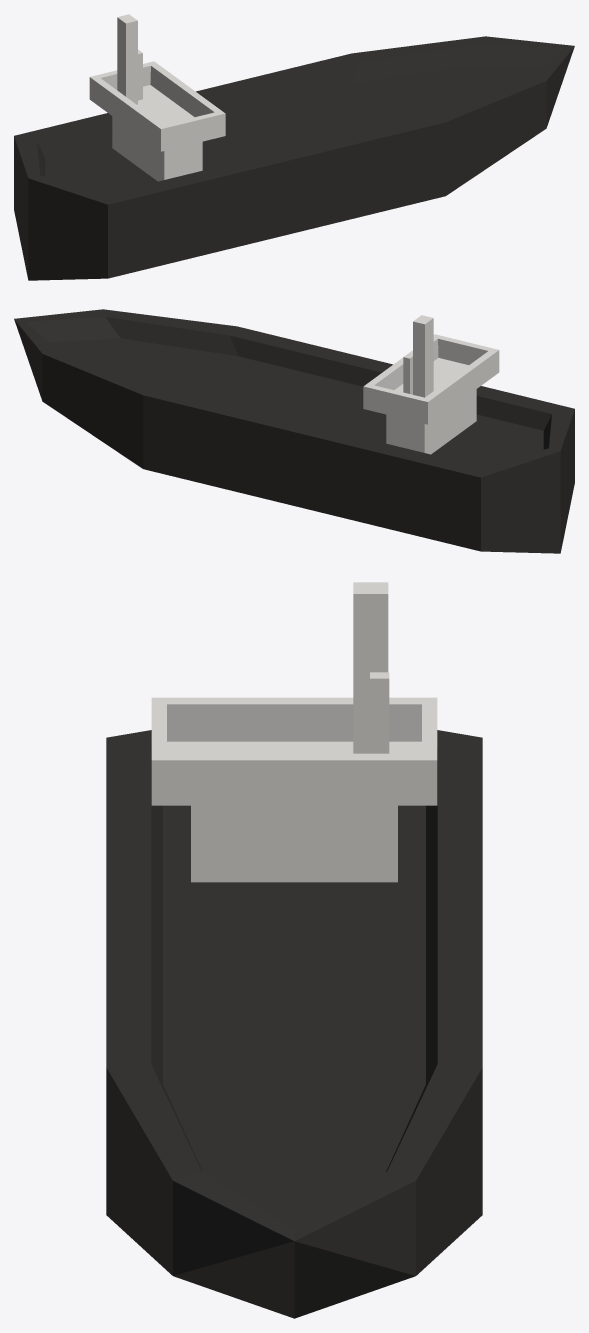
File: cargo.obj
The picture shows the model from 3 angles, top to bottom: view 1: azimuth 30°, elevation 25°; view 2: azimuth 150°, elevation 25°; view 3: azimuth 270°, elevation 25°; orthographic projection. The views are drawn at different scales.
Parts seen in each view (by area): view 1: cargoShip_Cube.007; view 2: cargoShip_Cube.007; view 3: cargoShip_Cube.007.
Part boxes in pixels (<box>): cargoShip_Cube.007: <box>14,14,574,280</box>; cargoShip_Cube.007: <box>14,309,574,553</box>; cargoShip_Cube.007: <box>106,582,482,1318</box>.
Size of the model in its own units: 1.76 by 0.6747 by 0.5253.
